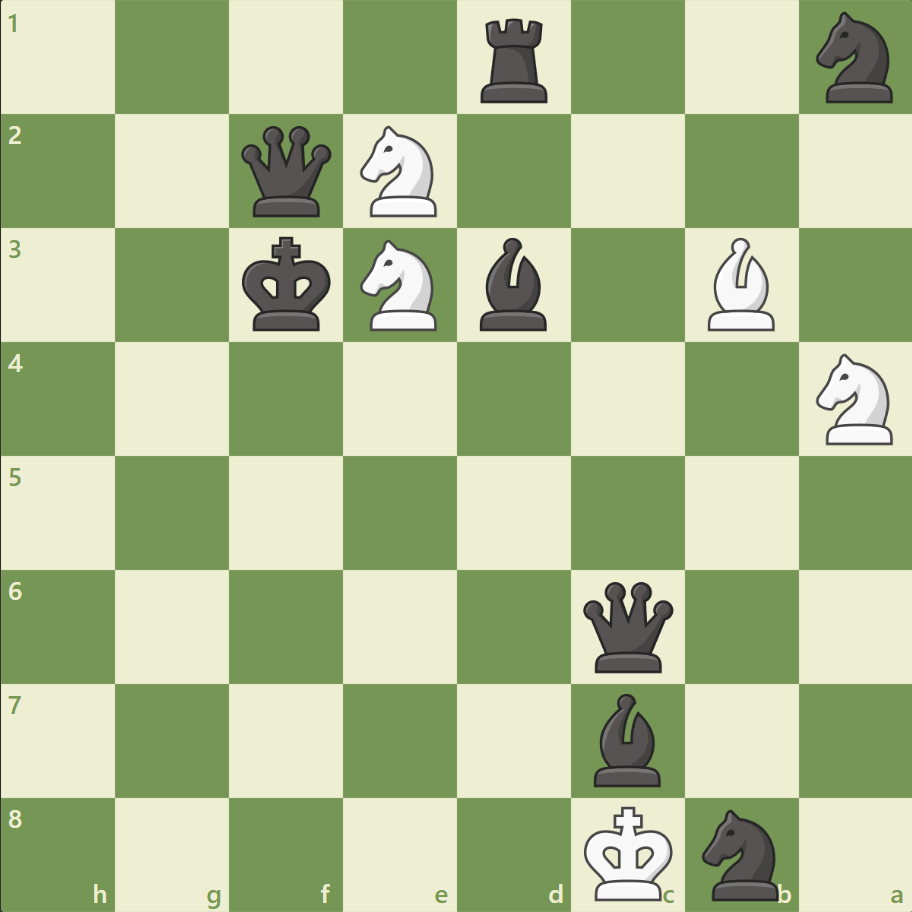B: (698, 233, 782, 336)
K: (579, 798, 679, 906)
N: (351, 234, 449, 337), (351, 121, 449, 223), (806, 348, 903, 450)
b: (585, 687, 669, 790), (471, 233, 555, 336)
k: (238, 231, 338, 339)
n: (806, 7, 903, 110), (692, 802, 789, 904)
q: (578, 576, 677, 676), (237, 122, 336, 222)
r: (473, 12, 556, 109)
